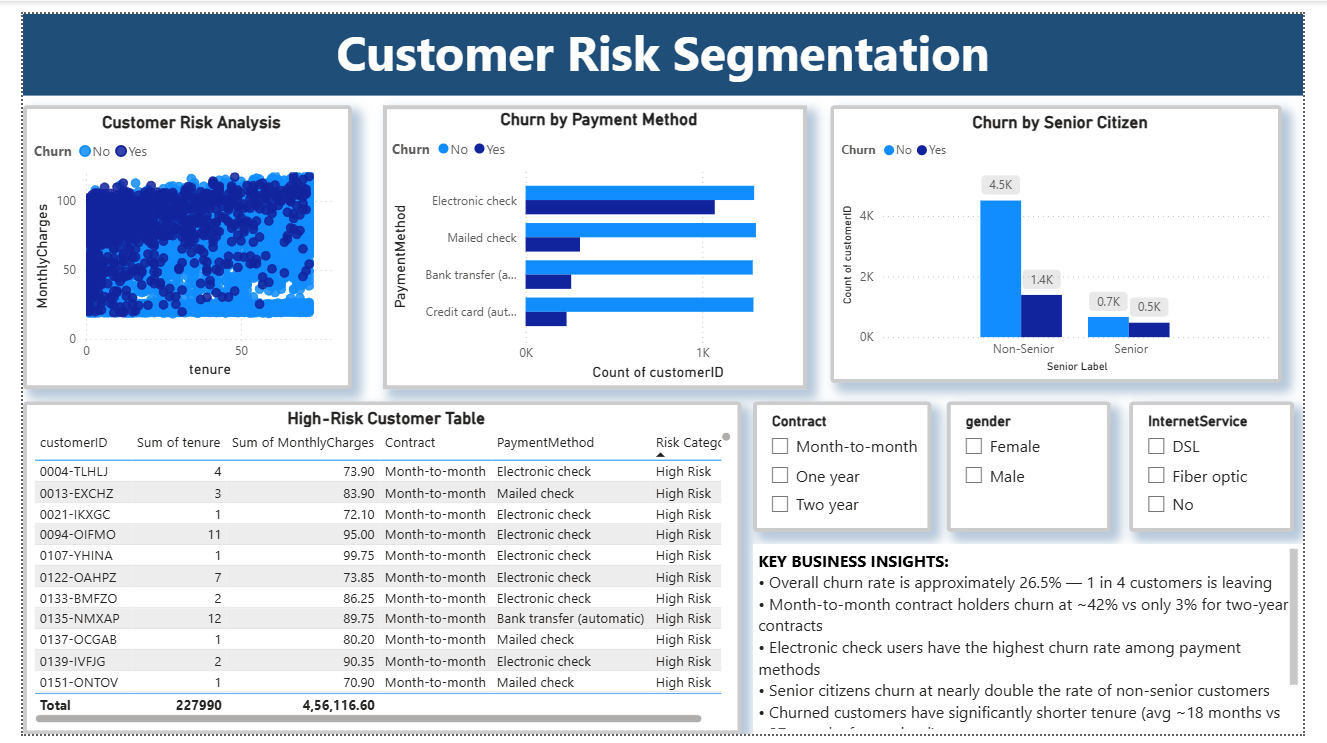

This screenshot's page, from the dashboard's own definition file:
{"tool":"powerbi","page":{"name":"Page 2","canvas":[1280,720],"ordinal":1},"visuals":[{"type":"textbox","box":[0,0,1280,81.2],"z":0},{"type":"scatterChart","title":"Customer Risk Analysis","fields":{"Series":["customer_churn.Churn"],"X":["customer_churn.tenure"],"Y":["customer_churn.MonthlyCharges"]},"box":[0,91.2,328.8,283.8],"z":1000},{"type":"clusteredBarChart","title":"Churn by Payment Method","fields":{"Category":["customer_churn.PaymentMethod"],"Y":["CountNonNull(customer_churn.customerID)"],"Series":["customer_churn.Churn"]},"box":[360,91.2,423.8,283.8],"z":2000},{"type":"clusteredColumnChart","title":"Churn by Senior Citizen","fields":{"Category":["customer_churn.Senior Label"],"Series":["customer_churn.Churn"],"Y":["CountNonNull(customer_churn.customerID)"]},"box":[807.5,91.2,451.2,277.5],"z":3000},{"type":"tableEx","title":"High-Risk Customer Table","fields":{"Values":["customer_churn.customerID","Sum(customer_churn.tenure)","Sum(customer_churn.MonthlyCharges)","customer_churn.Contract","customer_churn.PaymentMethod","customer_churn.Risk Category"]},"box":[0,387.5,718.8,332.5],"z":4000},{"type":"slicer","fields":{"Values":["customer_churn.Contract"]},"box":[730,387.5,178.8,130],"z":5000},{"type":"slicer","fields":{"Values":["customer_churn.gender"]},"box":[923.8,387.5,163.8,130],"z":6000},{"type":"slicer","fields":{"Values":["customer_churn.InternetService"]},"box":[1106.2,387.5,165,130],"z":7000},{"type":"textbox","box":[730,530,550,190],"z":8000}]}

Visuals, with their boxes in screenshot pixels (x1, y1, x2, y2), scaled from the page's 1280x720 canvas onto the 1327x743 screenshot:
textbox: crop(0, 0, 1326, 84)
"Customer Risk Analysis" scatterChart: crop(0, 94, 341, 387)
"Churn by Payment Method" clusteredBarChart: crop(373, 94, 813, 387)
"Churn by Senior Citizen" clusteredColumnChart: crop(837, 94, 1305, 380)
"High-Risk Customer Table" tableEx: crop(0, 400, 745, 742)
slicer - customer_churn.Contract: crop(757, 400, 942, 534)
slicer - customer_churn.gender: crop(958, 400, 1128, 534)
slicer - customer_churn.InternetService: crop(1147, 400, 1318, 534)
textbox: crop(757, 547, 1326, 742)
